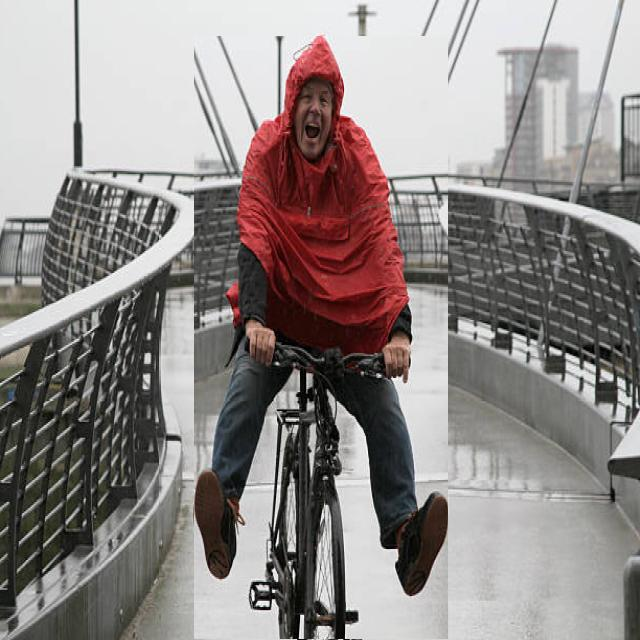bicycle: (194, 36, 448, 639)
